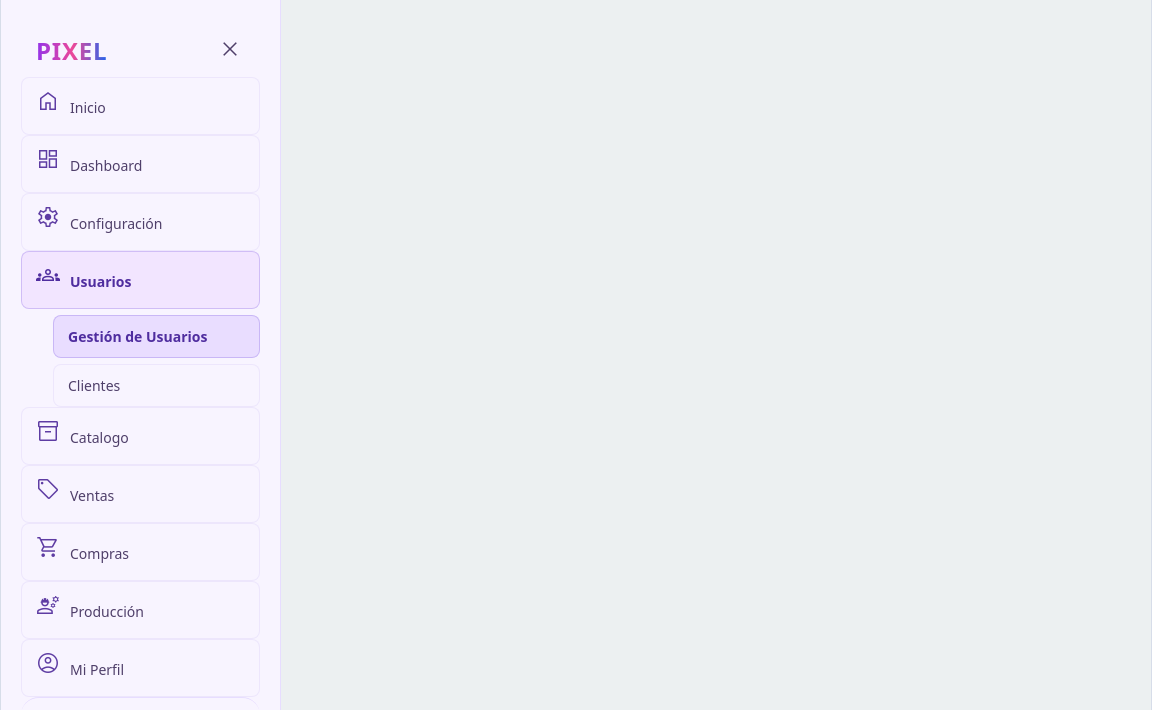
Test: Sidebar accordion › opens only one group and opening Catalogo closes Usuarios
The image size is (1152, 710).
expect the text "Gestión de Usuarios" is shown: met, box [68, 327, 208, 346]
Click the button titled "Catalogo".
click(140, 436)  # box [21, 407, 260, 465]
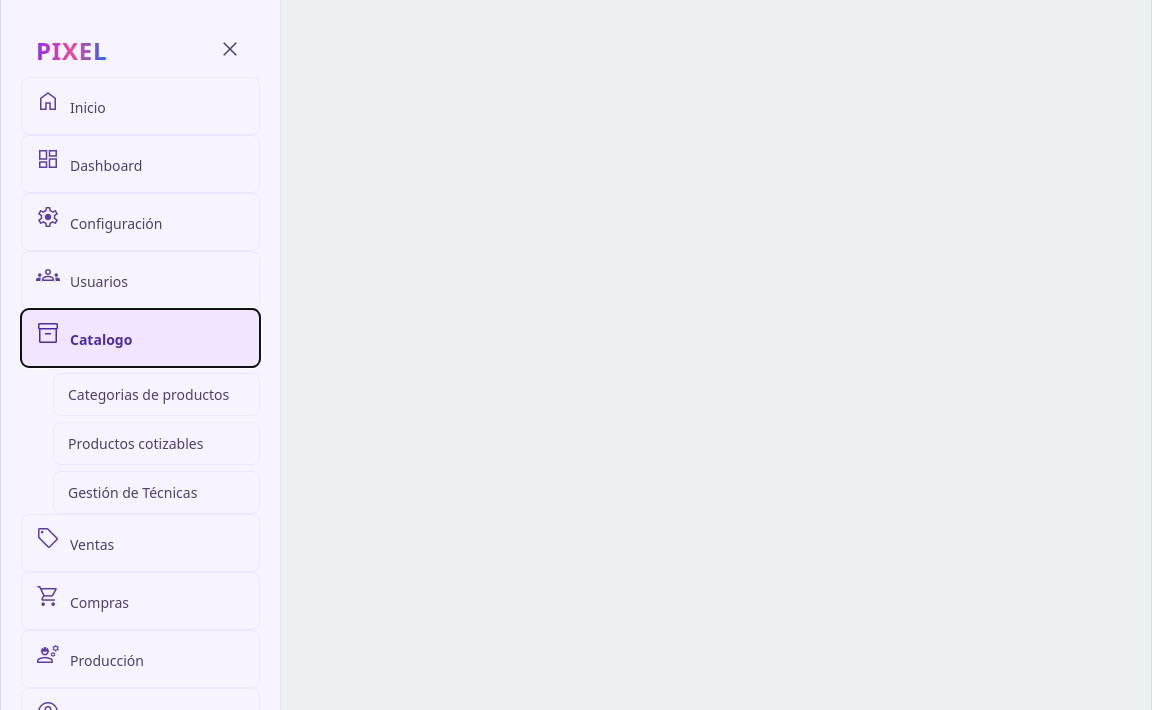
expect the button titled "Catalogo" is expanded: met, box [21, 309, 260, 367]
expect the button titled "Usuarios" is collapsed: met, box [21, 251, 260, 309]
expect the link "Gestión de Usuarios" is gone: met
